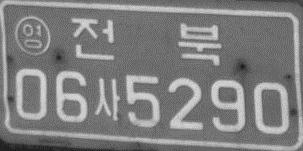0: (253, 80, 289, 135), (14, 67, 48, 121)
2: (168, 76, 204, 131)
5: (124, 74, 160, 128)
6: (54, 70, 89, 123)
9: (210, 79, 247, 132)
사: (94, 76, 121, 121)
영: (14, 14, 50, 56)
전북_D: (69, 16, 221, 66)
